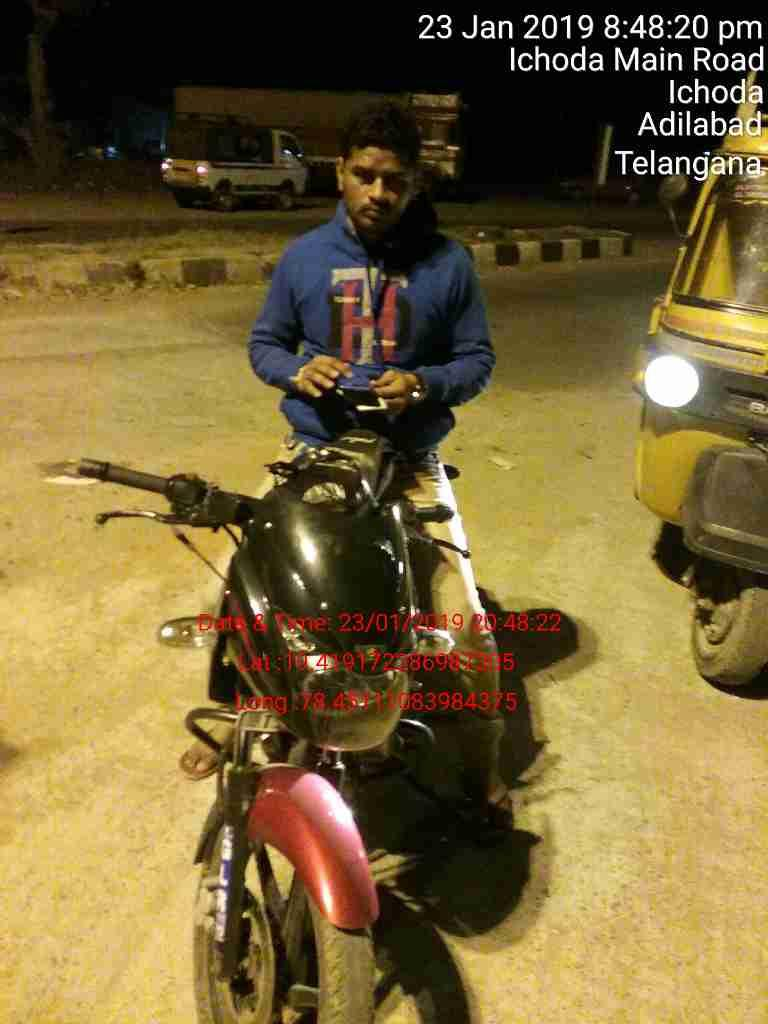without_helmet: (58, 121, 554, 1024)
